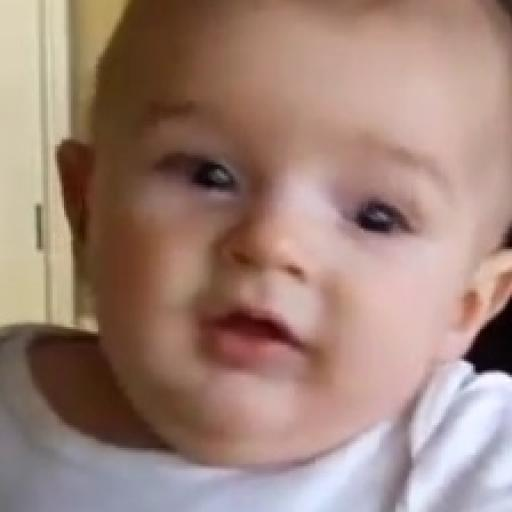Autism: (49, 18, 512, 469)
